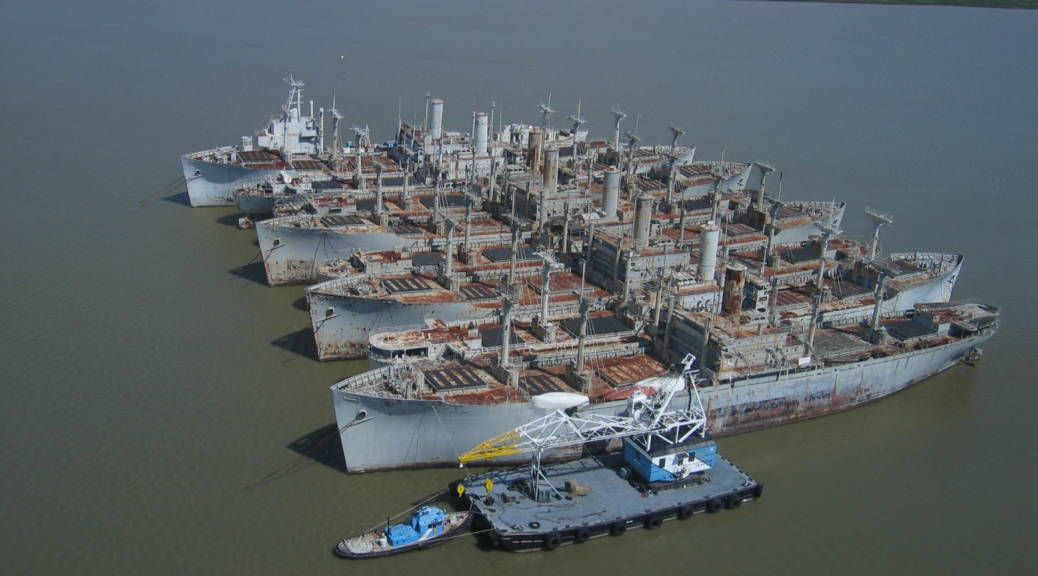rust: (717, 376, 854, 430), (559, 347, 661, 393), (471, 264, 584, 301)
